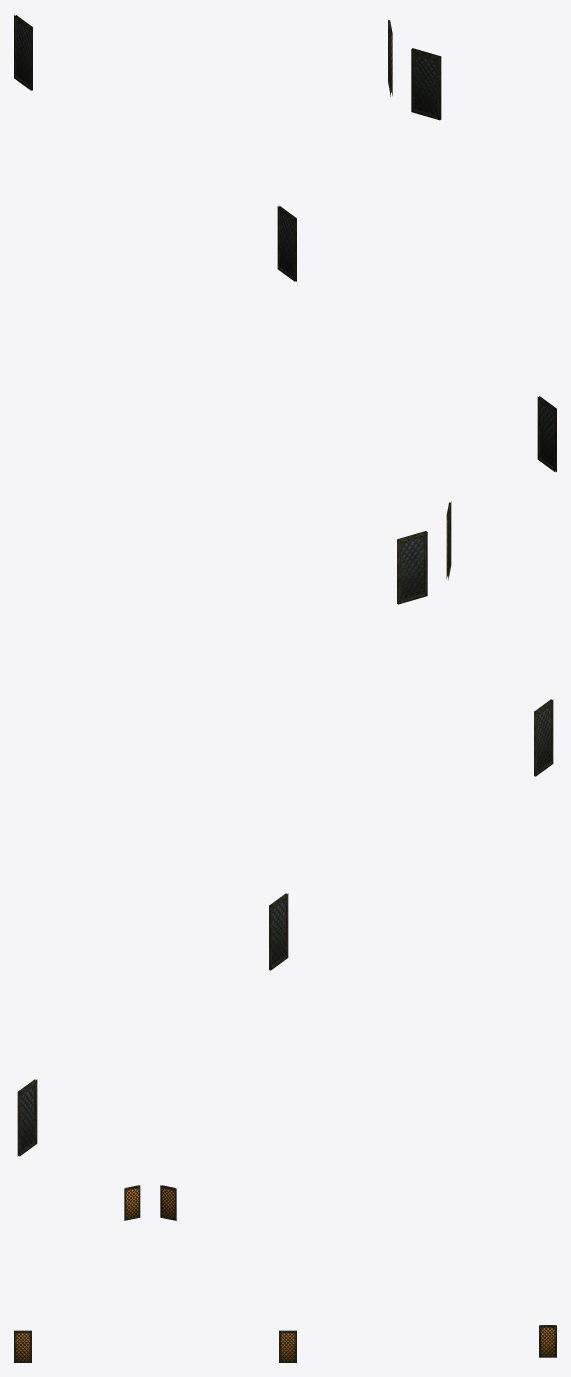
Rendered from LAKETOWN_EXTERIOR_PS_LT_WINDOW_LONG_LOD1_52.fbx.
The picture shows the model from 3 angles, top to bottom: view 1: azimuth 30°, elevation 25°; view 2: azimuth 150°, elevation 25°; view 3: azimuth 270°, elevation 25°; orthographic projection. The views are drawn at different scales.
Parts seen in each view (by area): view 1: LAKETOWN_EXTERIOR_PS_LT_WINDOW_LONG_LOD1_52; view 2: LAKETOWN_EXTERIOR_PS_LT_WINDOW_LONG_LOD1_52; view 3: LAKETOWN_EXTERIOR_PS_LT_WINDOW_LONG_LOD1_52.
Boxes of the visible parts, x1,y1,x2,y2 form: LAKETOWN_EXTERIOR_PS_LT_WINDOW_LONG_LOD1_52: [14, 15, 556, 471]; LAKETOWN_EXTERIOR_PS_LT_WINDOW_LONG_LOD1_52: [17, 501, 553, 1156]; LAKETOWN_EXTERIOR_PS_LT_WINDOW_LONG_LOD1_52: [14, 1185, 556, 1362].
Bounding box in the file's own units: 5415 × 79043 × 225428.
2 materials, 2 textured.
